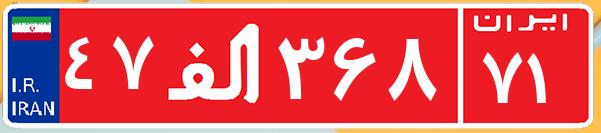1: (525, 38, 570, 115)
3: (273, 28, 330, 110)
4: (57, 26, 110, 107)
6: (330, 28, 385, 110)
7: (475, 38, 525, 113), (110, 28, 158, 105)
8: (385, 28, 445, 110)
الف: (158, 15, 273, 115)
